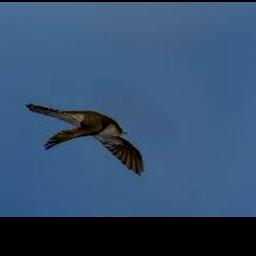Cuckoo: (25, 104, 143, 176)
